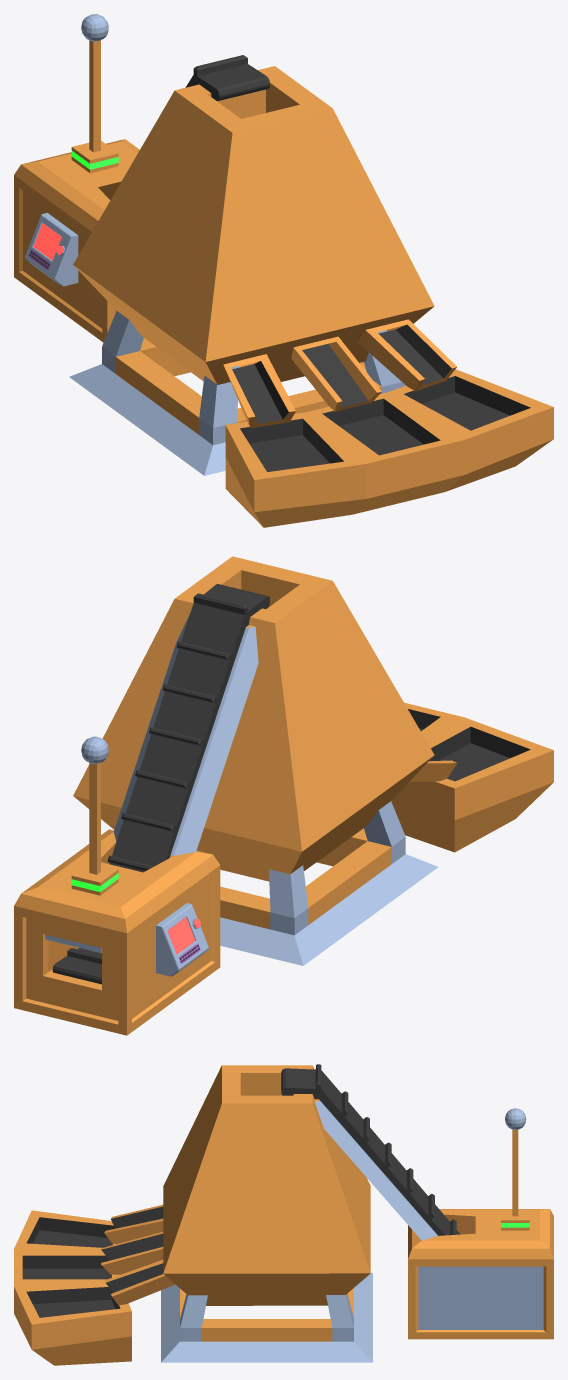
The model's file is smelter_sansanim_final.glb.
The picture shows the model from 3 angles, top to bottom: view 1: azimuth 30°, elevation 25°; view 2: azimuth 150°, elevation 25°; view 3: azimuth 270°, elevation 25°; orthographic projection. The views are drawn at different scales.
Visible parts, largest first — view 1: Cube.002, Cube, Plane, Cube.001, Screen, Cube.003, ElectricalHook; view 2: Cube.002, Cube.001, Cube.003, Plane, Cube, Screen, ElectricalHook; view 3: Cube.002, Cube.001, Cube, Plane, Cube.003, ElectricalHook.
Part boxes in pixels (x1,y1,x2,y2): Cube.002: (73, 66, 456, 428); Cube: (225, 369, 553, 527); Plane: (69, 311, 405, 475); Cube.001: (14, 40, 139, 342); Screen: (25, 213, 78, 286); Cube.003: (185, 55, 269, 100); ElectricalHook: (81, 14, 108, 41); Cube.002: (73, 556, 456, 881); Cube.001: (14, 612, 258, 1035); Cube.003: (52, 584, 269, 984); Plane: (220, 801, 438, 965); Cube: (391, 702, 553, 852); Screen: (156, 903, 208, 976); ElectricalHook: (81, 736, 108, 763); Cube.002: (101, 1065, 370, 1305); Cube.001: (314, 1099, 553, 1339); Cube: (14, 1210, 131, 1365); Plane: (161, 1272, 372, 1362); Cube.003: (281, 1064, 460, 1235); ElectricalHook: (505, 1108, 526, 1129).
Bounding box in the file's own units: 4.58 × 4.56 × 9.12.
